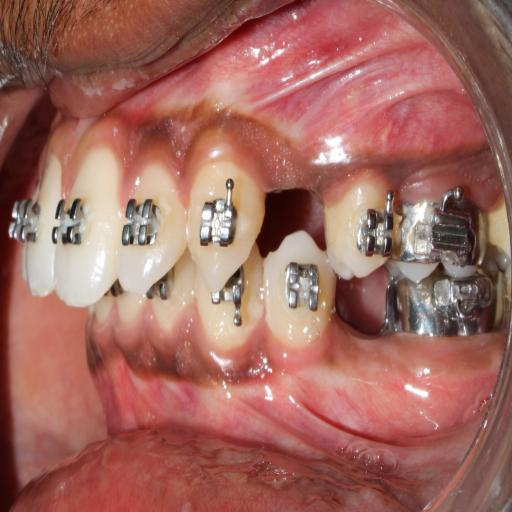correct_brace: (323, 182, 398, 284), (120, 192, 159, 256), (196, 197, 240, 252), (53, 189, 85, 263)
incorrect_brace: (114, 162, 188, 310), (356, 206, 395, 262)
